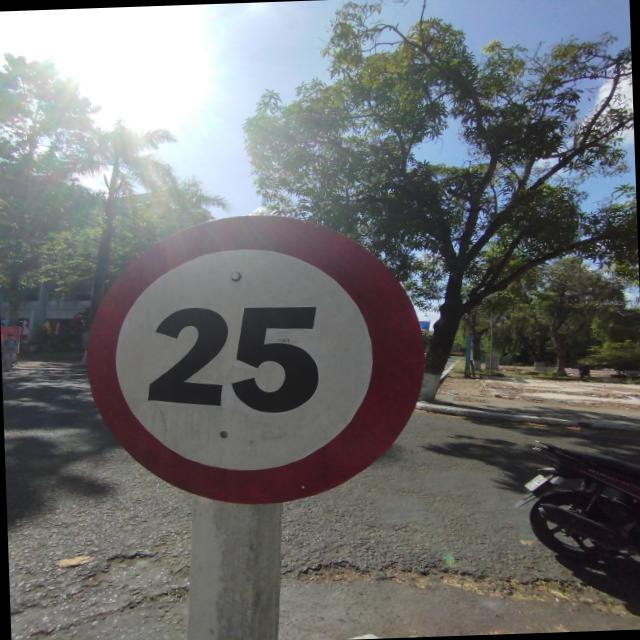Tre_Em: (77, 202, 436, 508)
